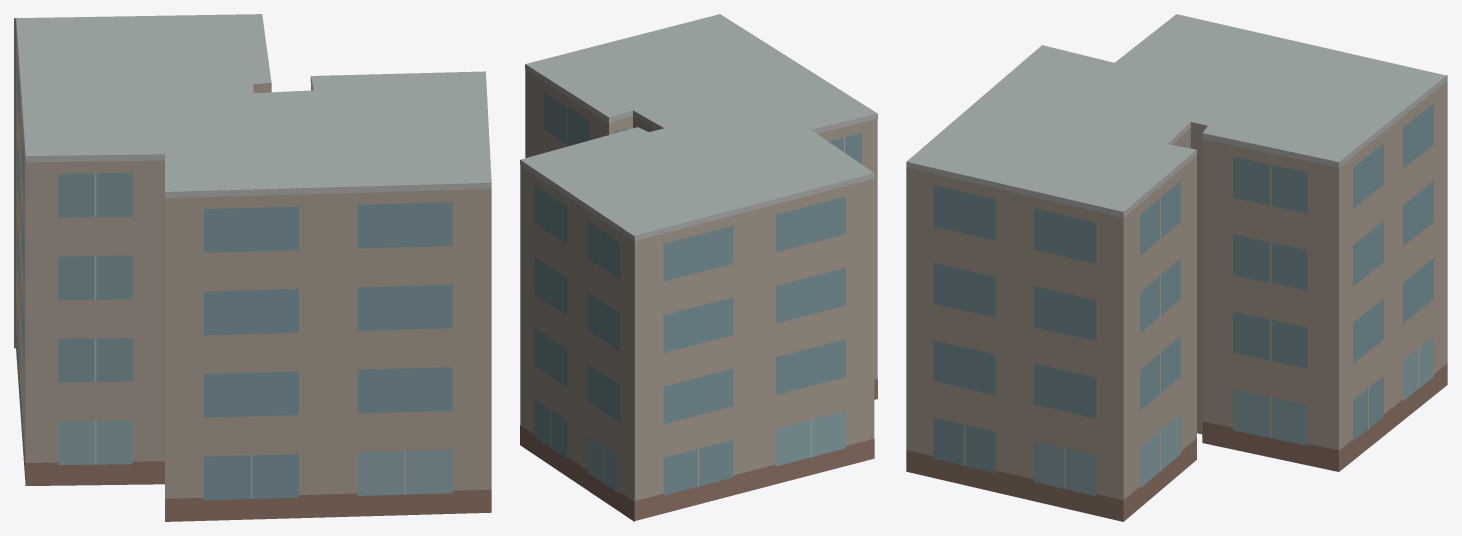
Rendered from survey-upis-32474428.glb.
The picture shows the model from 3 angles, left to right: view 1: azimuth 30°, elevation 25°; view 2: azimuth 150°, elevation 25°; view 3: azimuth 270°, elevation 25°; orthographic projection. The views are drawn at different scales.
Parts seen in each view (by area): view 1: survey-upis-32474428.tmp; view 2: survey-upis-32474428.tmp; view 3: survey-upis-32474428.tmp.
Part boxes in pixels (box(x1,y1,x2,y2)): survey-upis-32474428.tmp: box(14, 14, 491, 521); survey-upis-32474428.tmp: box(520, 14, 877, 521); survey-upis-32474428.tmp: box(906, 14, 1447, 521).
Size of the model in its own units: 17.68 by 12.9 by 20.43.
